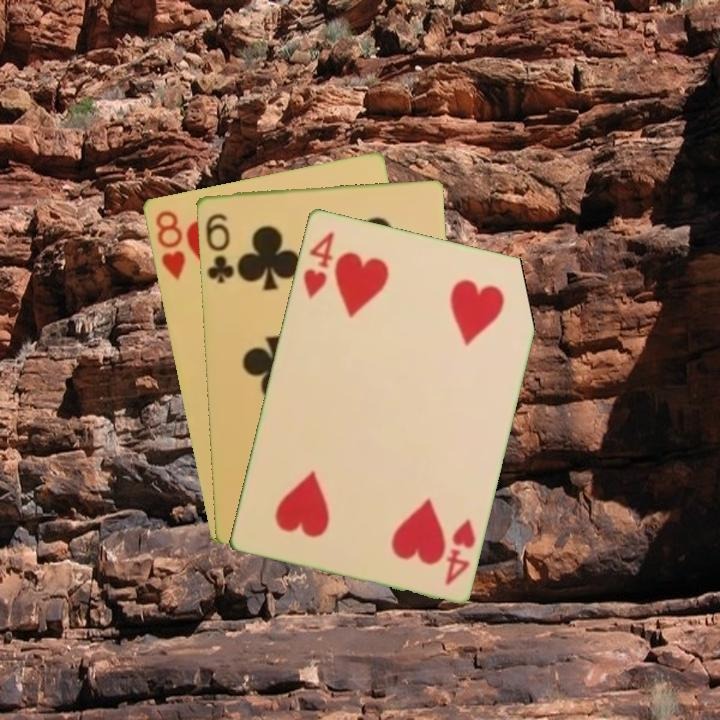4h: (299, 227, 337, 301), (441, 514, 478, 588)
6c: (202, 209, 237, 286)
8h: (151, 206, 188, 283)
